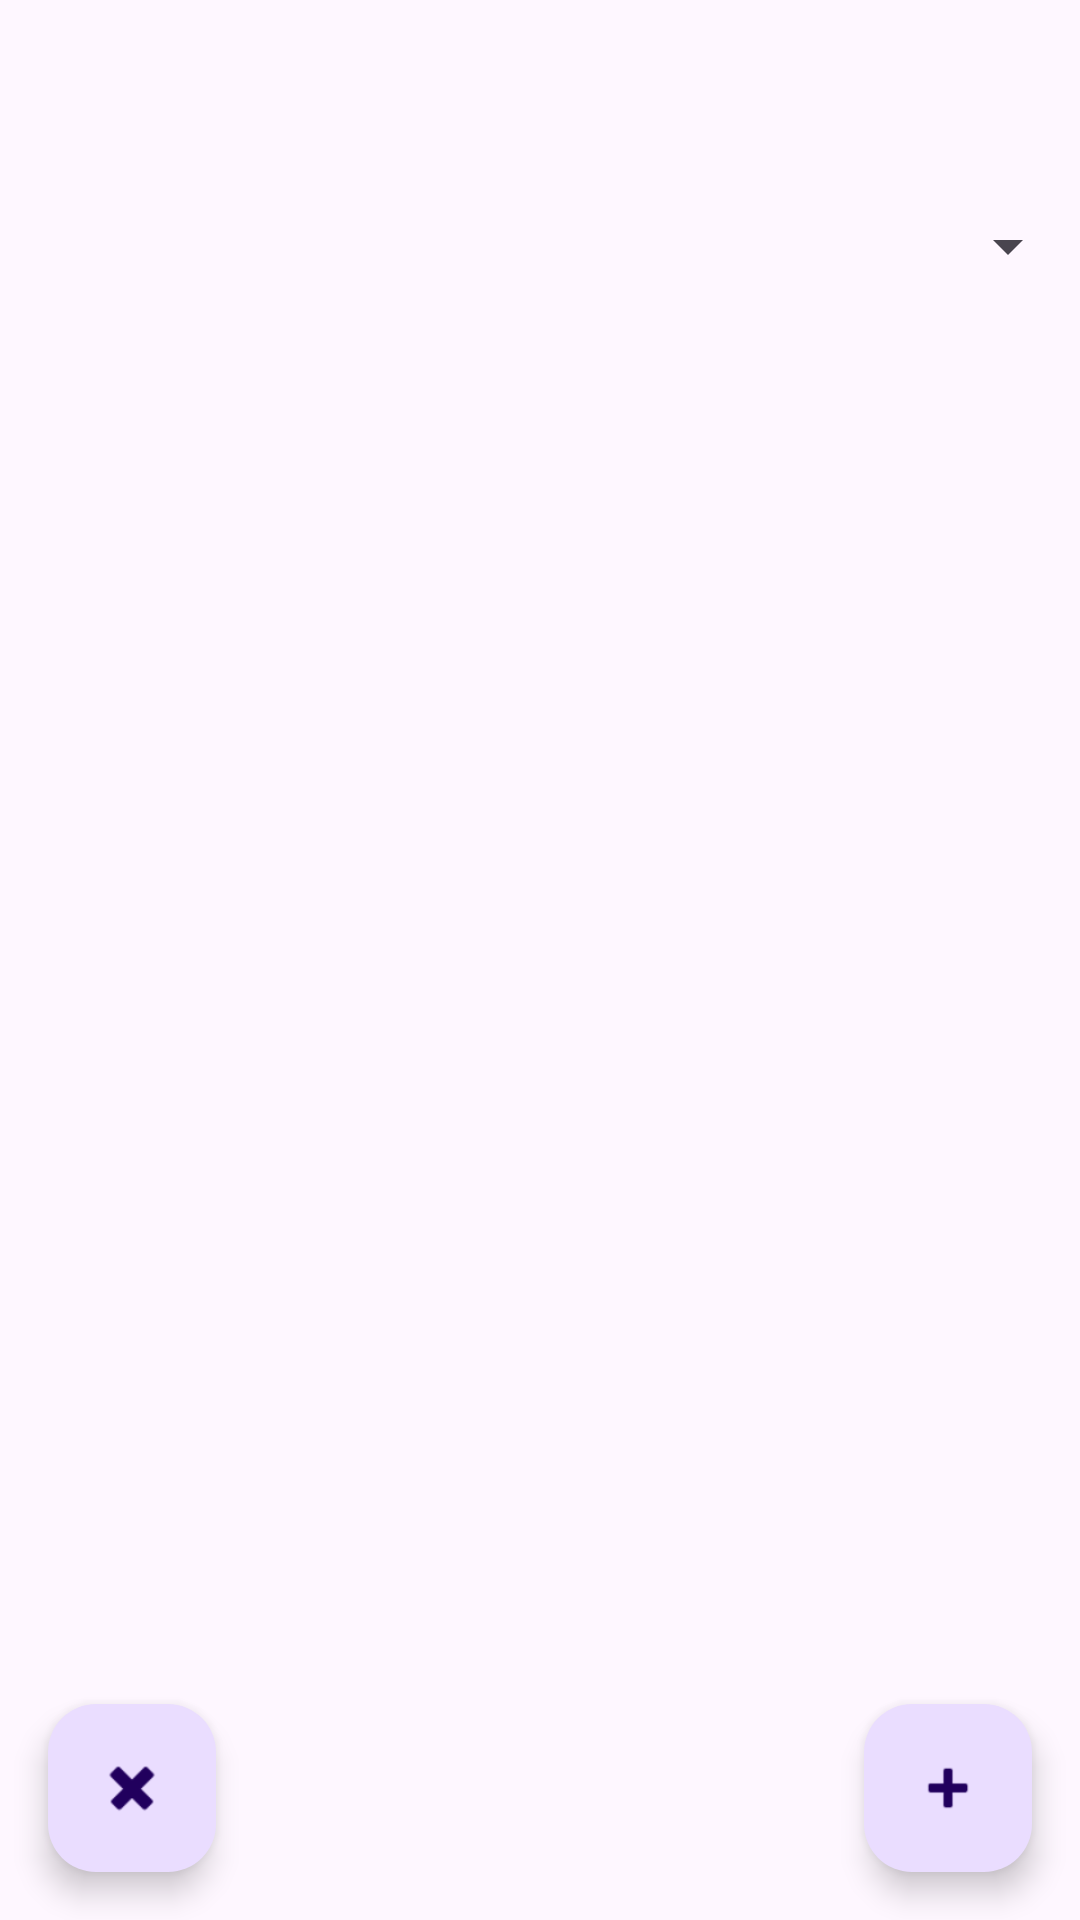

Locate icon controls on the screen. Image size 1080x1920, boxes as rect(x1, y1, x2, y2).
add: rect(864, 1704, 1032, 1872)
delete: rect(48, 1704, 216, 1872)
